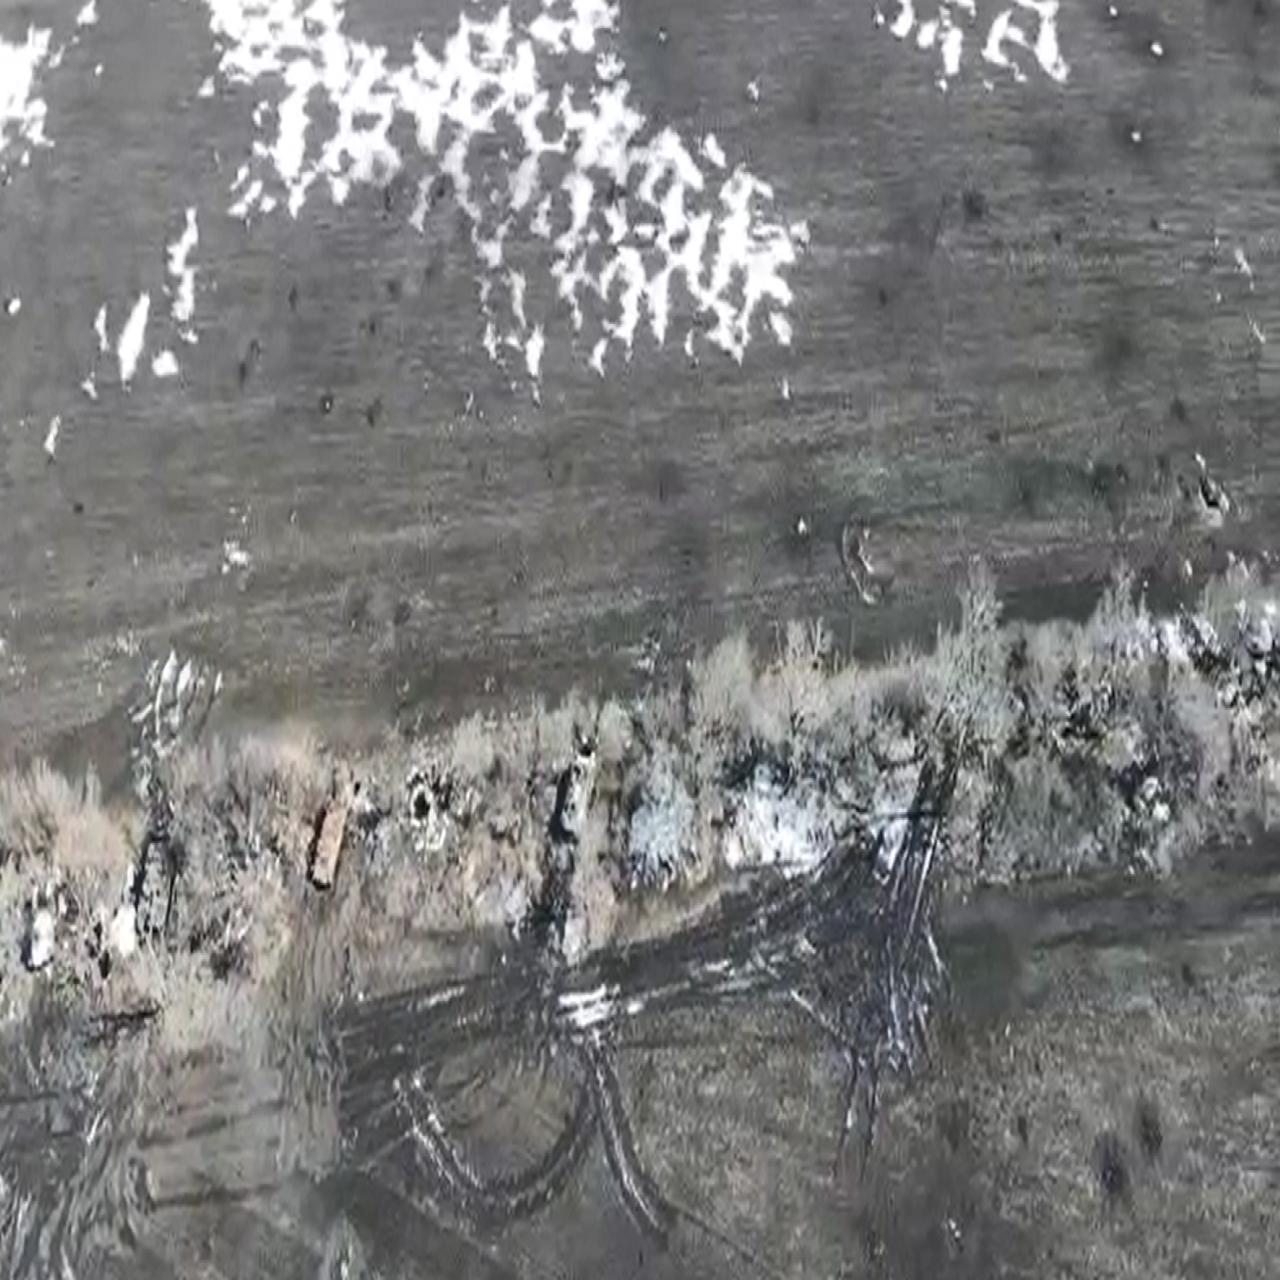MIL_Veh: (134, 828, 179, 947)
